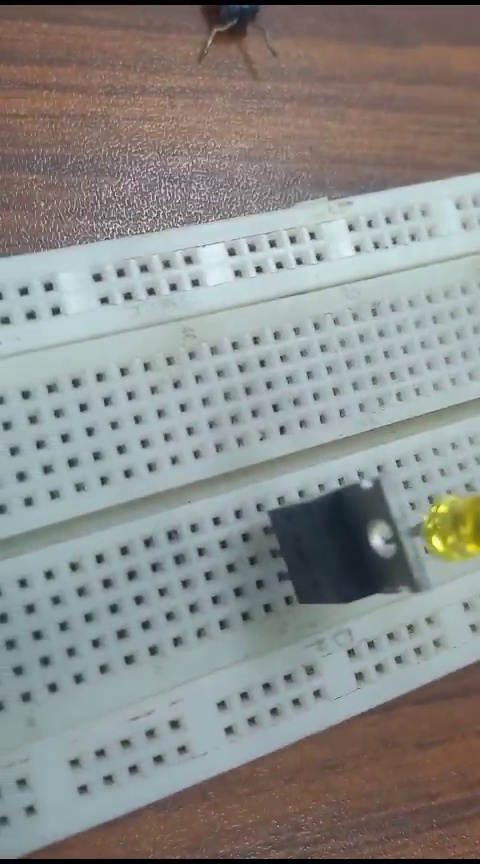LED: (424, 485, 480, 580)
voltage regulator: (268, 473, 418, 616)
